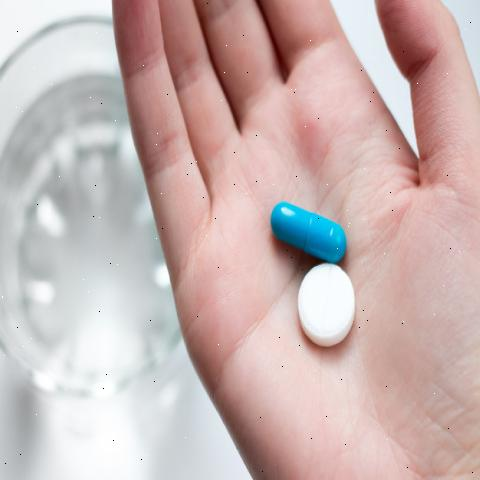Pill: (271, 264, 366, 349)
